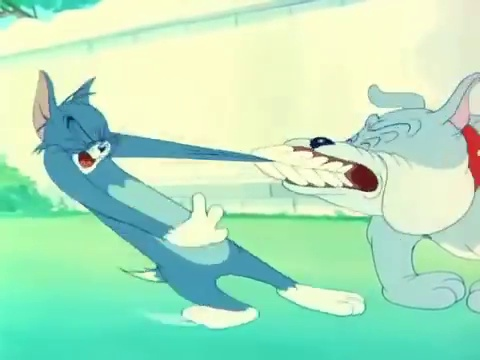tom: (30, 67, 120, 180)
